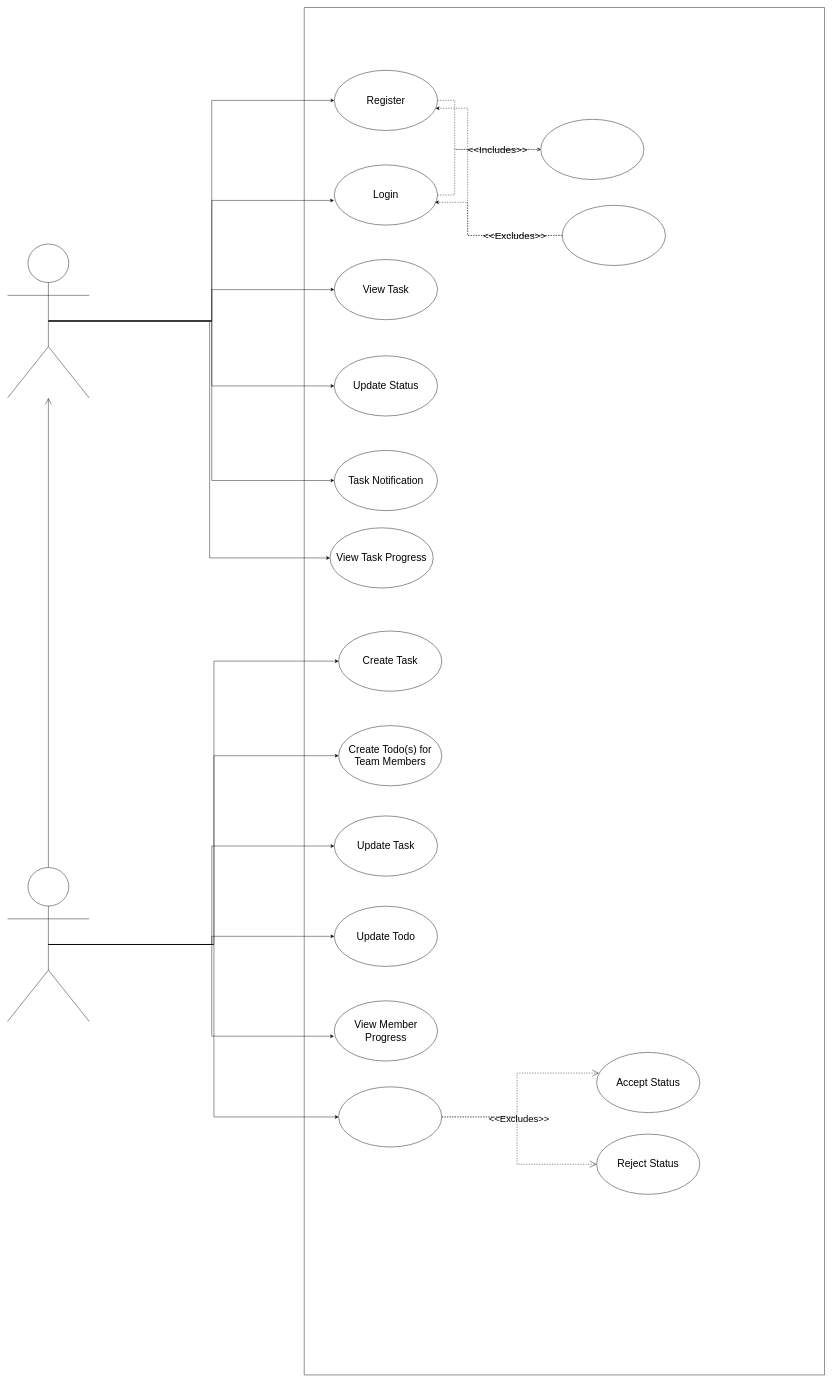
Image size: 832x1382. Some labels were removed from this diagram. The centre of each missing label's shape, as x and y in pixels:
Lead: (48,944)
Member: (48,321)
Response: (613,235)
Review Member Status Request: (390,1116)
Validate: (592,149)
